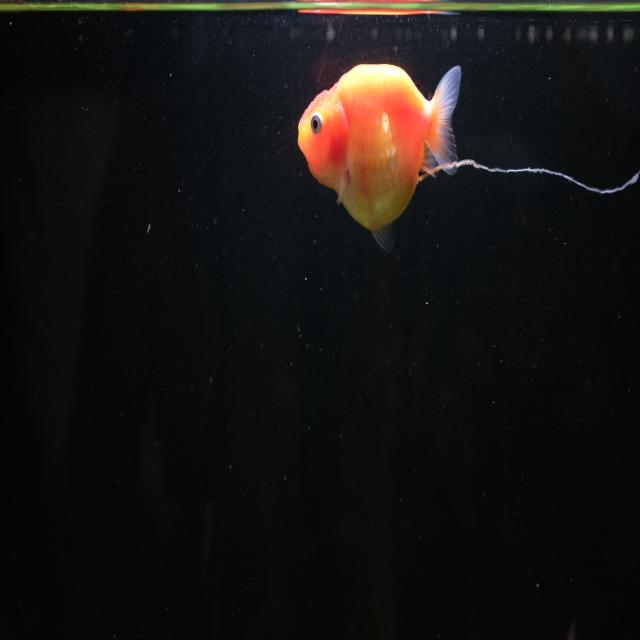Tilapia: (297, 61, 462, 254)
